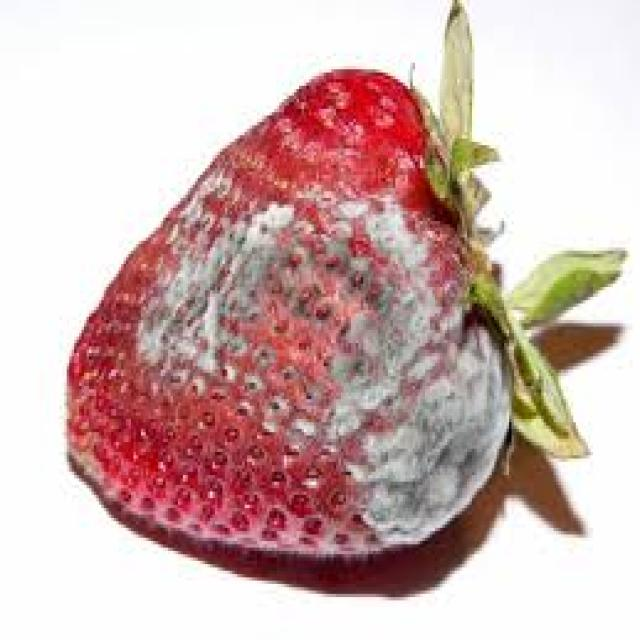Strawberries: (76, 78, 551, 559)
